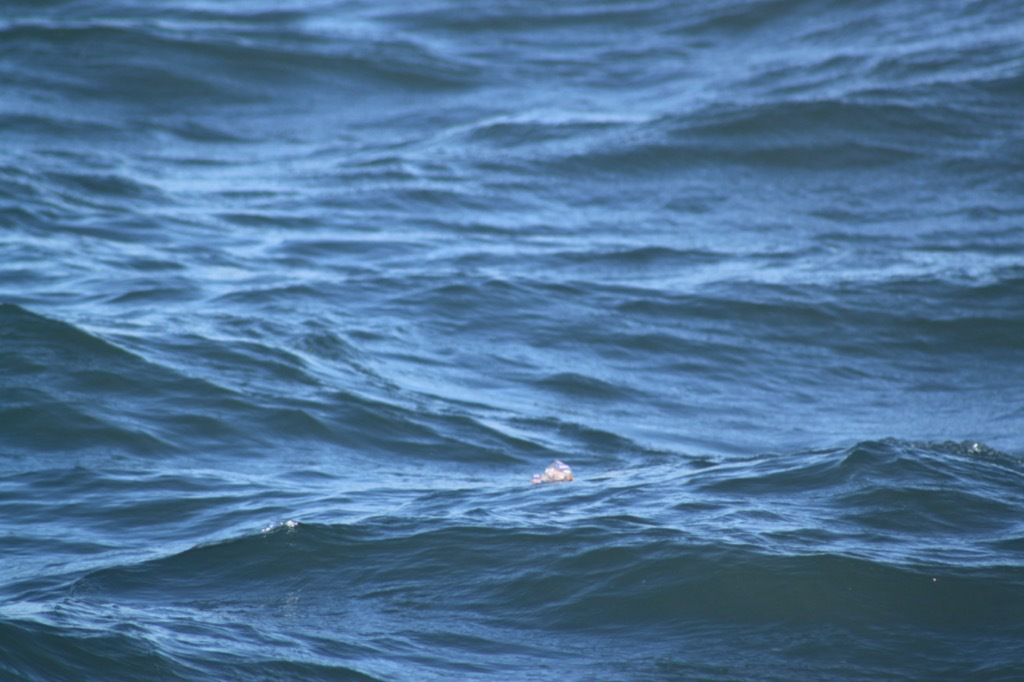plastic: (518, 449, 585, 500)
